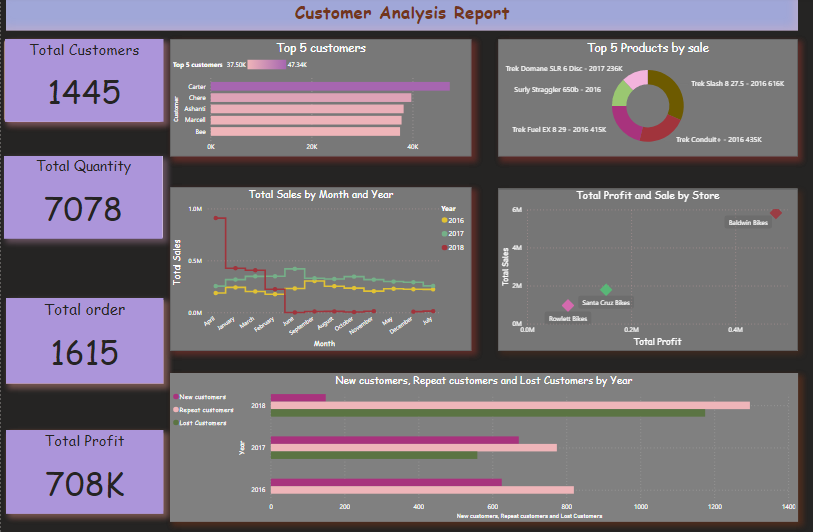

This screenshot's page, from the dashboard's own definition file:
{"tool":"powerbi","page":{"name":"Page 1","canvas":[1500,1000],"ordinal":0},"visuals":[{"type":"textbox","box":[5.6,77.2,293.8,154.4],"z":0},{"type":"textbox","box":[9.5,293.5,289.7,151.5],"z":1000},{"type":"textbox","box":[8.9,559.2,290.7,155.3],"z":2000},{"type":"textbox","box":[8.9,801,290.7,155.3],"z":3000},{"type":"textbox","box":[312.6,77.2,557.4,216.6],"z":4000},{"type":"textbox","box":[919,77.2,553.7,216.6],"z":5000},{"type":"textbox","box":[919,354,553.7,299.4],"z":6000},{"type":"textbox","box":[312.6,350.3,557.4,303.2],"z":7000},{"type":"textbox","box":[312.6,694.9,1160.1,275],"z":8000},{"type":"textbox","box":[8.9,0,1464.5,62.1],"z":9000},{"type":"card","title":"Total Customers","fields":{"Values":["Calculations.Running Total customers"]},"box":[6.7,77.7,292.9,153.1],"z":10000},{"type":"card","title":"Total Quantity","fields":{"Values":["Calculations.Total Quantity"]},"box":[5.7,293.5,293.5,153.4],"z":11000},{"type":"card","title":"Total order","fields":{"Values":["Calculations.Total order"]},"box":[8.9,557,290.7,157.5],"z":12000},{"type":"card","title":"Total Profit","fields":{"Values":["Calculations.Total Profit"]},"box":[8.9,801,290.7,155.3],"z":13000},{"type":"clusteredBarChart","title":"Top 5 customers","fields":{"Y":["Calculations.Top 5 customers"],"Category":["sales customers.first_name"]},"box":[312.6,77.2,557.4,216.6],"z":14000},{"type":"DonutChartGMO1461469098694","title":"Top 5 Products by sale","fields":{"Category":["production products.product_name"],"Y":["Calculations.Top 5 products"]},"box":[919,77.2,553.7,216.6],"z":15000},{"type":"lineChart","title":"Total Sales by Month and Year","fields":{"Y":["Calculations.Total SalesAmount"],"Category":["DimDate.MonthName"],"Series":["DimDate.CalendarYear"]},"box":[312.6,350.3,557.4,303.2],"z":16000},{"type":"scatterChart","title":"Total Profit and Sale by Store","fields":{"Category":["sales stores.store_name"],"X":["Calculations.Total Profit"],"Y":["Calculations.Total SalesAmount"]},"box":[919,352.2,553.7,301.3],"z":17000},{"type":"clusteredBarChart","fields":{"Y":["Calculations.New customers","Calculations.Repeat customers1","Calculations.Lost Customers 1"],"Category":["sales orders_date.orderdate.Variation.Date Hierarchy.Year","sales orders_date.orderdate.Variation.Date Hierarchy.Quarter","sales orders_date.orderdate.Variation.Date Hierarchy.Month","sales orders_date.orderdate.Variation.Date Hierarchy.Day"]},"box":[312.9,694.5,1160.5,275.1],"z":18000}]}

Visuals, with their boxes in screenshot pixels (x1, y1, x2, y2), scaled from the page's 1500x1000 canvas onto the 813x532 screenshot:
textbox: <region>3, 41, 162, 123</region>
textbox: <region>5, 156, 162, 237</region>
textbox: <region>5, 297, 162, 380</region>
textbox: <region>5, 426, 162, 509</region>
textbox: <region>169, 41, 472, 156</region>
textbox: <region>498, 41, 798, 156</region>
textbox: <region>498, 188, 798, 348</region>
textbox: <region>169, 186, 472, 348</region>
textbox: <region>169, 370, 798, 516</region>
textbox: <region>5, 0, 799, 33</region>
"Total Customers" card: <region>4, 41, 162, 123</region>
"Total Quantity" card: <region>3, 156, 162, 238</region>
"Total order" card: <region>5, 296, 162, 380</region>
"Total Profit" card: <region>5, 426, 162, 509</region>
"Top 5 customers" clusteredBarChart: <region>169, 41, 472, 156</region>
"Top 5 Products by sale" DonutChartGMO1461469098694: <region>498, 41, 798, 156</region>
"Total Sales by Month and Year" lineChart: <region>169, 186, 472, 348</region>
"Total Profit and Sale by Store" scatterChart: <region>498, 187, 798, 348</region>
clusteredBarChart - Calculations.New customers x Calculations.Repeat customers1: <region>170, 369, 799, 516</region>
